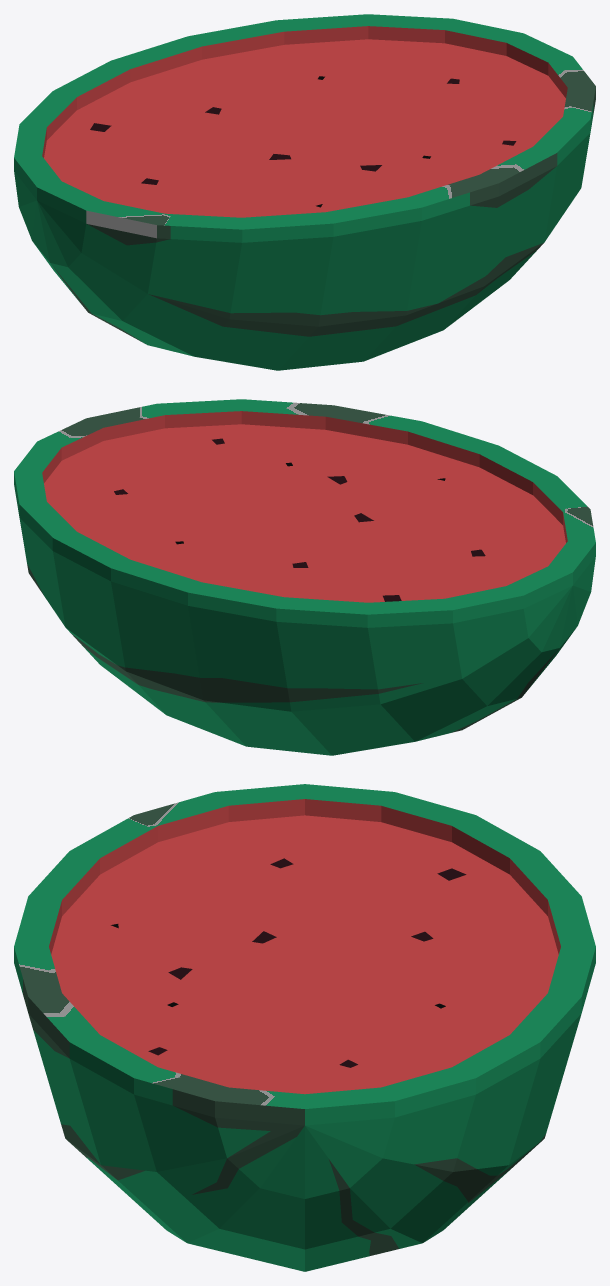
Rendered from watermelon_half.glb.
The picture shows the model from 3 angles, top to bottom: view 1: azimuth 30°, elevation 25°; view 2: azimuth 150°, elevation 25°; view 3: azimuth 270°, elevation 25°; orthographic projection. The views are drawn at different scales.
Parts seen in each view (by area): view 1: watermelon_half; view 2: watermelon_half; view 3: watermelon_half.
Boxes of the visible parts, left/top/right/bottom form: watermelon_half: left=14, top=14, right=595, bottom=370; watermelon_half: left=14, top=399, right=595, bottom=755; watermelon_half: left=14, top=784, right=595, bottom=1271.
Size of the model in its own units: 2.64 by 1.06 by 2.
Materials: 1 (1 with a texture image).
